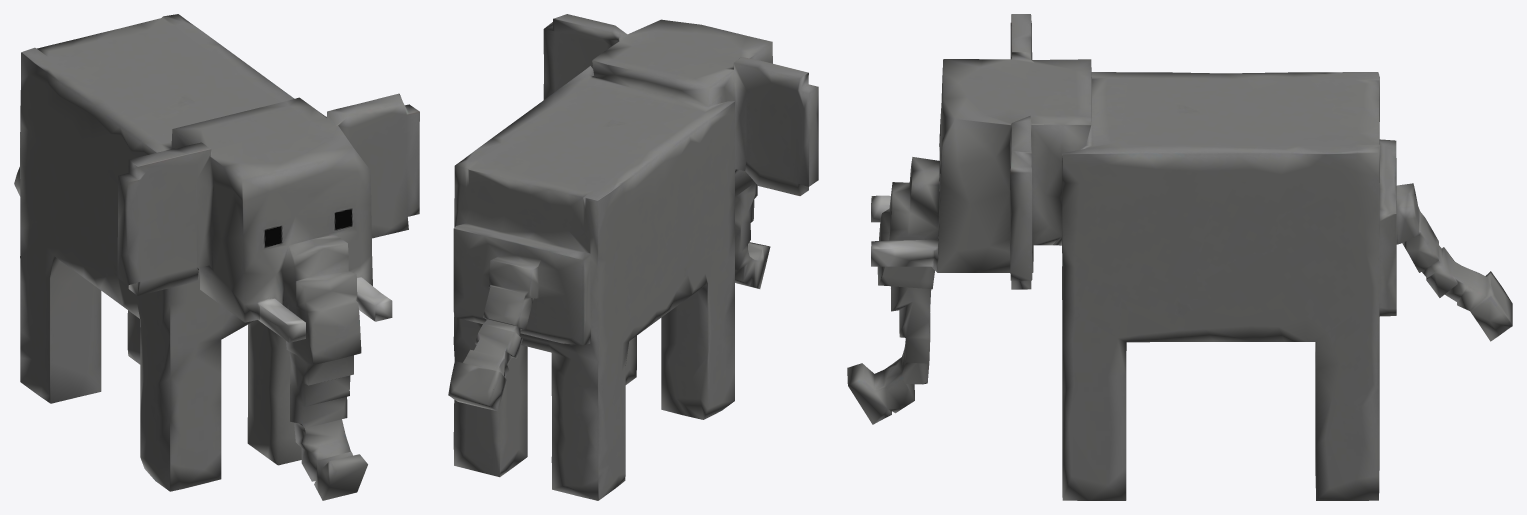
Rendered from elephant.glb.
3 views of the same model, side by side, from view 1: azimuth 30°, elevation 25°; view 2: azimuth 150°, elevation 25°; view 3: azimuth 270°, elevation 25° (orthographic). The views are drawn at different scales.
Visible parts, largest first — view 1: Mesh::generatedModels/pu5fdDbgyUzl8xeDrvfI.gltf; view 2: Mesh::generatedModels/pu5fdDbgyUzl8xeDrvfI.gltf; view 3: Mesh::generatedModels/pu5fdDbgyUzl8xeDrvfI.gltf.
Boxes of the visible parts, x1,y1,x2,y2 form: Mesh::generatedModels/pu5fdDbgyUzl8xeDrvfI.gltf: (14,14,419,500); Mesh::generatedModels/pu5fdDbgyUzl8xeDrvfI.gltf: (448,14,818,500); Mesh::generatedModels/pu5fdDbgyUzl8xeDrvfI.gltf: (847,14,1512,500).
Bounding box in the file's own units: 0.5342 × 0.6249 × 1.
1 material, 1 textured.
